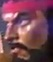ryu: (0, 0, 49, 61)
